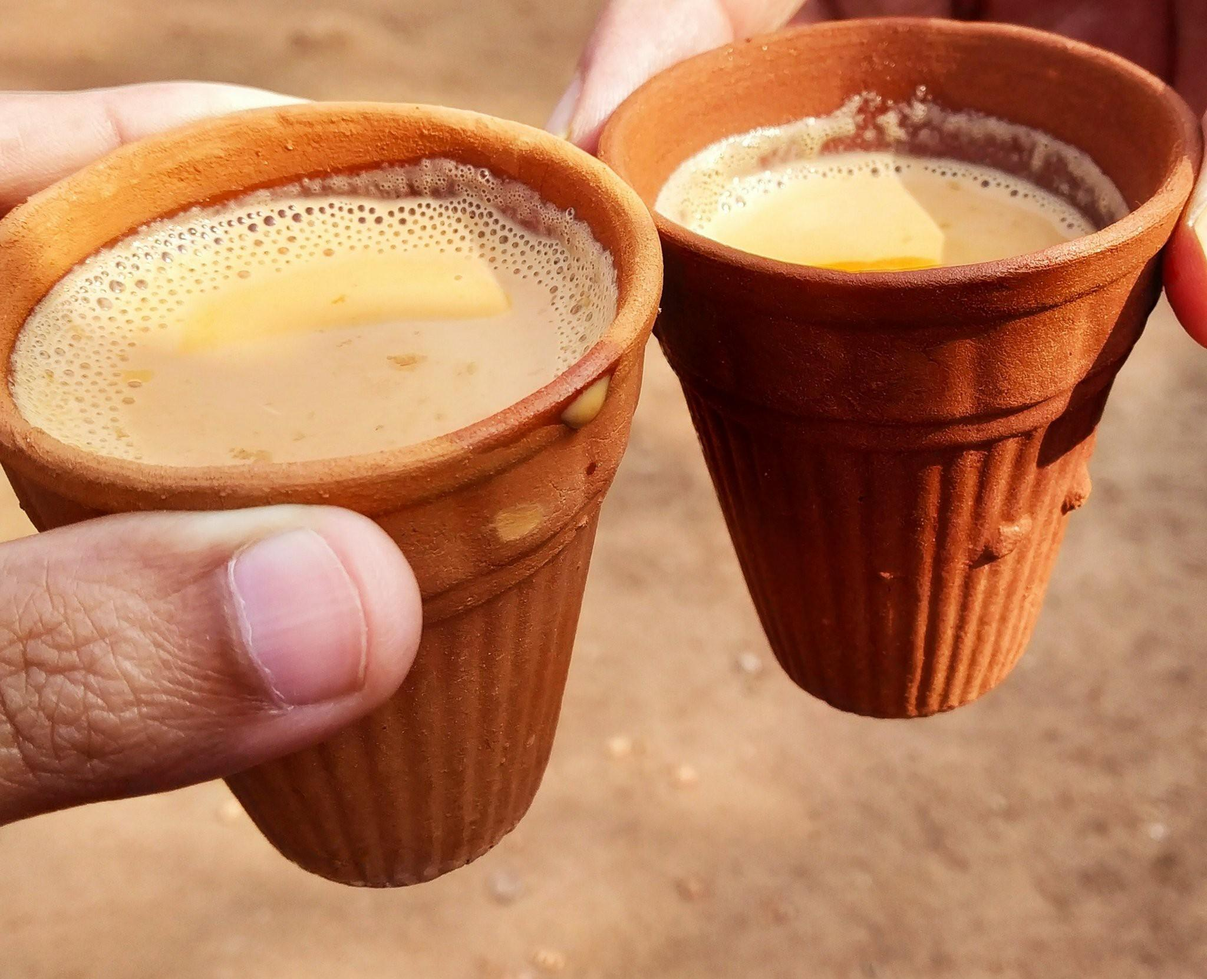Chai: (19, 158, 605, 486), (670, 156, 1112, 272)
